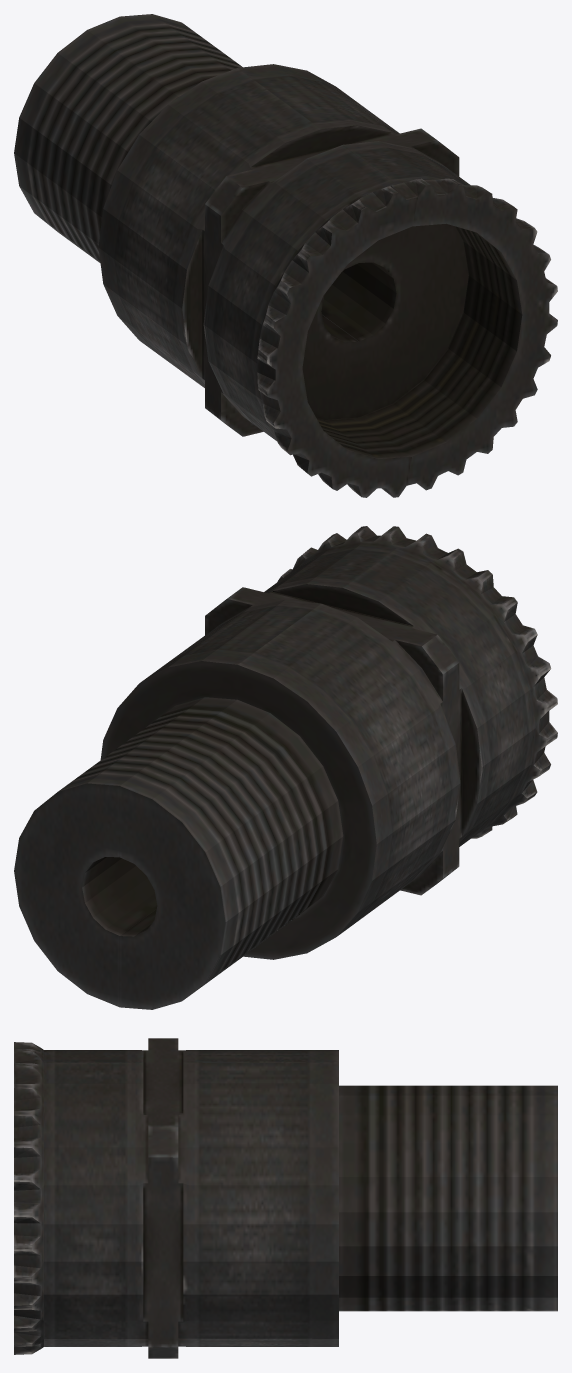
The picture shows the model from 3 angles, top to bottom: view 1: azimuth 30°, elevation 25°; view 2: azimuth 150°, elevation 25°; view 3: azimuth 270°, elevation 25°; orthographic projection. The views are drawn at different scales.
Visible parts, largest first — view 1: TW_5c4eec9b2e2216398b5aaba2_PZ_Import; view 2: TW_5c4eec9b2e2216398b5aaba2_PZ_Import; view 3: TW_5c4eec9b2e2216398b5aaba2_PZ_Import.
Boxes of the visible parts, x1,y1,x2,y2 form: TW_5c4eec9b2e2216398b5aaba2_PZ_Import: [14, 14, 557, 497]; TW_5c4eec9b2e2216398b5aaba2_PZ_Import: [14, 526, 557, 1009]; TW_5c4eec9b2e2216398b5aaba2_PZ_Import: [14, 1038, 557, 1358].
Size of the model in its own units: 0.0219 by 0.0382 by 0.0219.
1 material, 1 textured.
